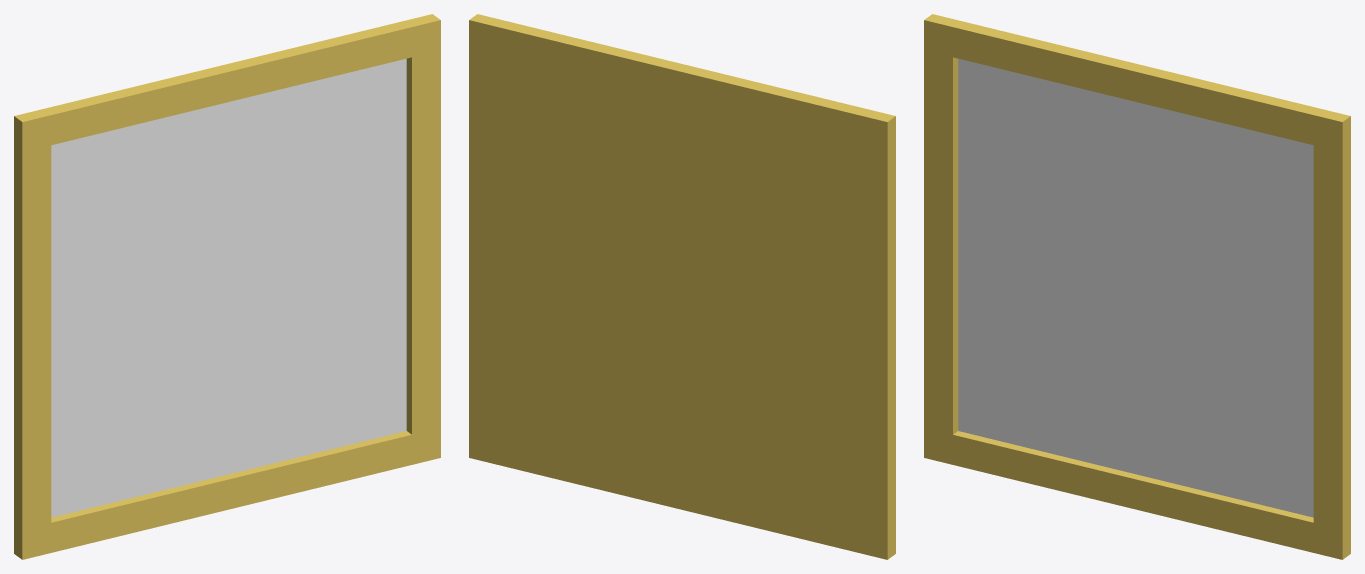
Rendered from picture_frame.glb.
The picture shows the model from 3 angles, left to right: view 1: azimuth 30°, elevation 25°; view 2: azimuth 150°, elevation 25°; view 3: azimuth 330°, elevation 25°; orthographic projection.
Parts seen in each view (by area): view 1: Canvas, PictureFrame; view 2: PictureFrame; view 3: Canvas, PictureFrame.
Boxes of the visible parts, x1,y1,x2,y2 form: Canvas: [51, 58, 406, 517]; PictureFrame: [14, 14, 440, 559]; PictureFrame: [469, 14, 895, 559]; Canvas: [958, 58, 1313, 517]; PictureFrame: [924, 14, 1350, 559].
Size of the model in its own units: 1.16 by 1.16 by 0.04.
